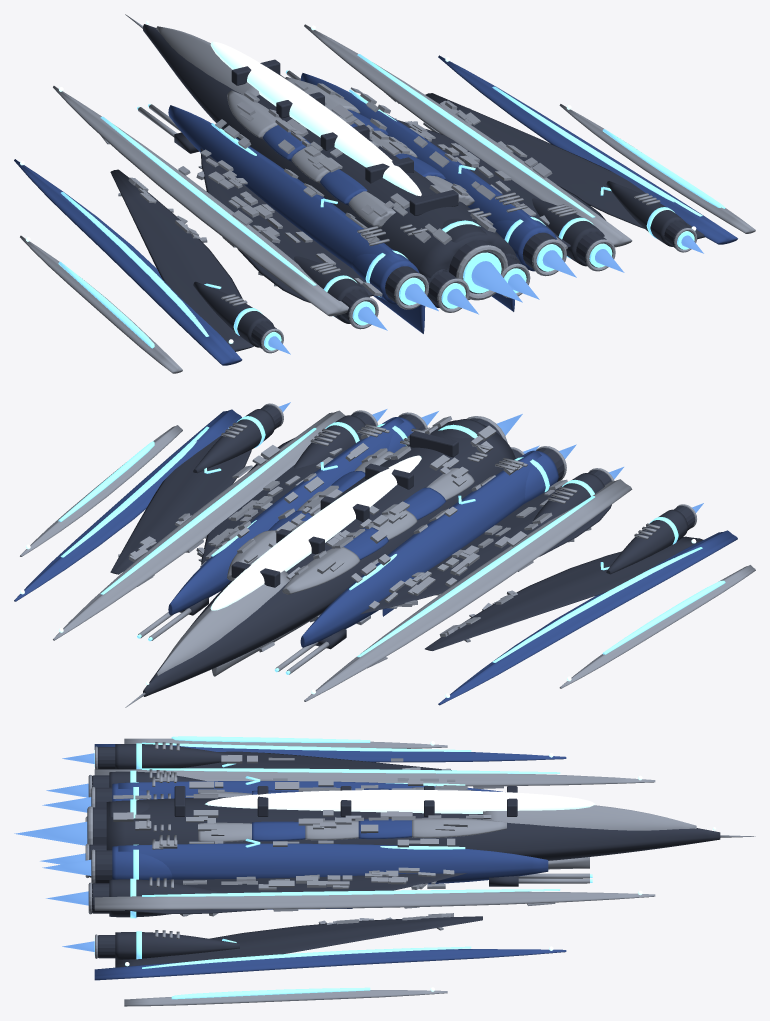
Rendered from valkyrie_prime.glb.
3 views of the same model, one above another, from view 1: azimuth 30°, elevation 25°; view 2: azimuth 150°, elevation 25°; view 3: azimuth 270°, elevation 25° (orthographic). The views are drawn at different scales.
Parts seen in each view (by area): view 1: Blade_Mid, Wing_Outer, Side_Pod, Greebles, Hull, Blade_Outer, Canopy, Wing_Inner, Blade_Tip, Fairing_Outer, Details, Blade_Mid_Glow (+15 smaller); view 2: Side_Pod, Blade_Mid, Hull, Wing_Outer, Greebles, Blade_Outer, Canopy, Wing_Inner, Details, Fairing_Outer, Blade_Tip, Nose_Plate (+14 smaller); view 3: Side_Pod, Hull, Blade_Mid, Greebles, Blade_Outer, Wing_Outer, Canopy, Fairing_Outer, Blade_Tip, Nose_Plate, Blade_Mid_Glow, Wing_Inner (+14 smaller).
Part boxes in pixels (x1,y1,x2,y2): Blade_Mid: (53, 24, 632, 316); Wing_Outer: (110, 93, 704, 351); Side_Pod: (168, 73, 541, 268); Greebles: (128, 80, 567, 296); Hull: (143, 24, 517, 277); Blade_Outer: (14, 55, 737, 365); Canopy: (210, 41, 421, 196); Wing_Inner: (200, 120, 605, 302); Blade_Tip: (20, 104, 755, 373); Fairing_Outer: (193, 181, 687, 347); Details: (20, 14, 696, 343); Blade_Mid_Glow: (100, 54, 595, 285); Side_Pod: (168, 417, 541, 647); Blade_Mid: (53, 410, 632, 701); Hull: (143, 420, 515, 696); Wing_Outer: (110, 429, 703, 650); Greebles: (128, 416, 567, 637); Blade_Outer: (14, 409, 737, 705); Canopy: (210, 455, 421, 610); Wing_Inner: (201, 438, 611, 614); Details: (20, 422, 696, 707); Fairing_Outer: (193, 409, 688, 574); Blade_Tip: (20, 425, 755, 688); Nose_Plate: (156, 570, 291, 675); Side_Pod: (118, 781, 548, 884); Hull: (106, 797, 720, 860); Blade_Mid: (94, 769, 655, 910); Greebles: (113, 755, 491, 924); Blade_Outer: (94, 744, 566, 980); Wing_Outer: (115, 751, 482, 967); Canopy: (205, 790, 595, 813); Fairing_Outer: (115, 744, 239, 960); Blade_Tip: (124, 738, 447, 1006); Nose_Plate: (483, 805, 696, 830); Blade_Mid_Glow: (142, 768, 560, 896); Wing_Inner: (126, 873, 466, 914).
Size of the model in its own units: 10.6 by 1.84 by 12.51.
